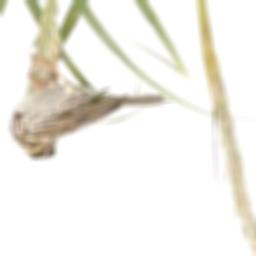Sparrow: (9, 53, 179, 162)
